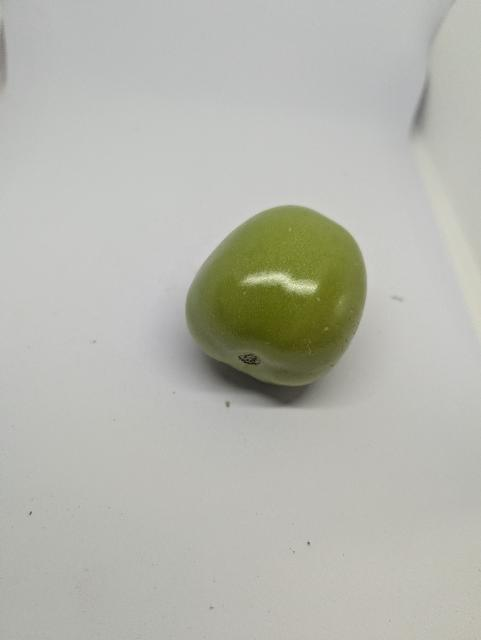green: (173, 186, 384, 410)
